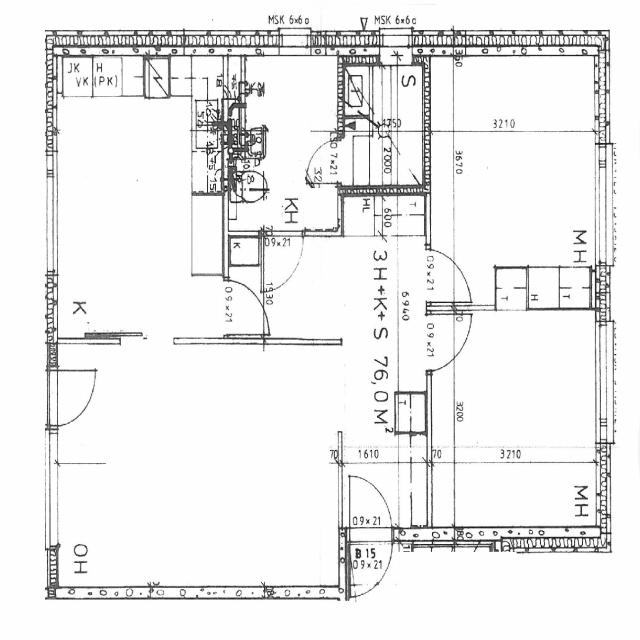door: (46, 371, 100, 426), (350, 473, 391, 541), (350, 528, 391, 596), (261, 230, 304, 292), (427, 314, 473, 369), (427, 249, 472, 303), (223, 281, 268, 334), (305, 141, 344, 184)
